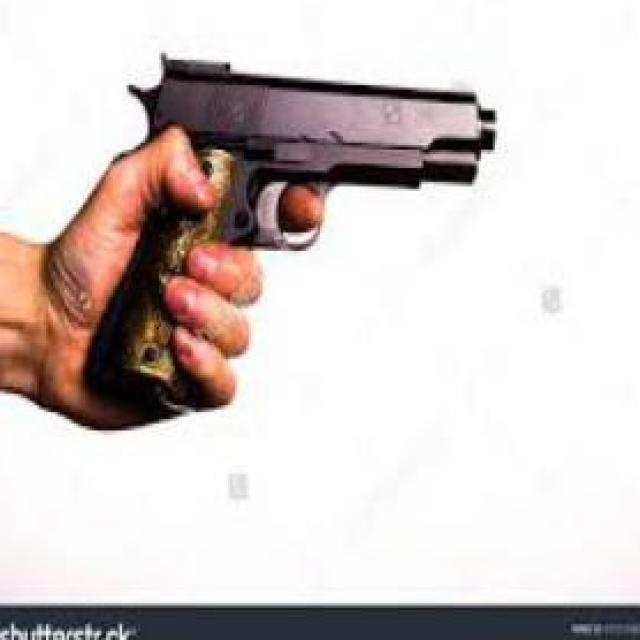pistol: (97, 46, 503, 420)
